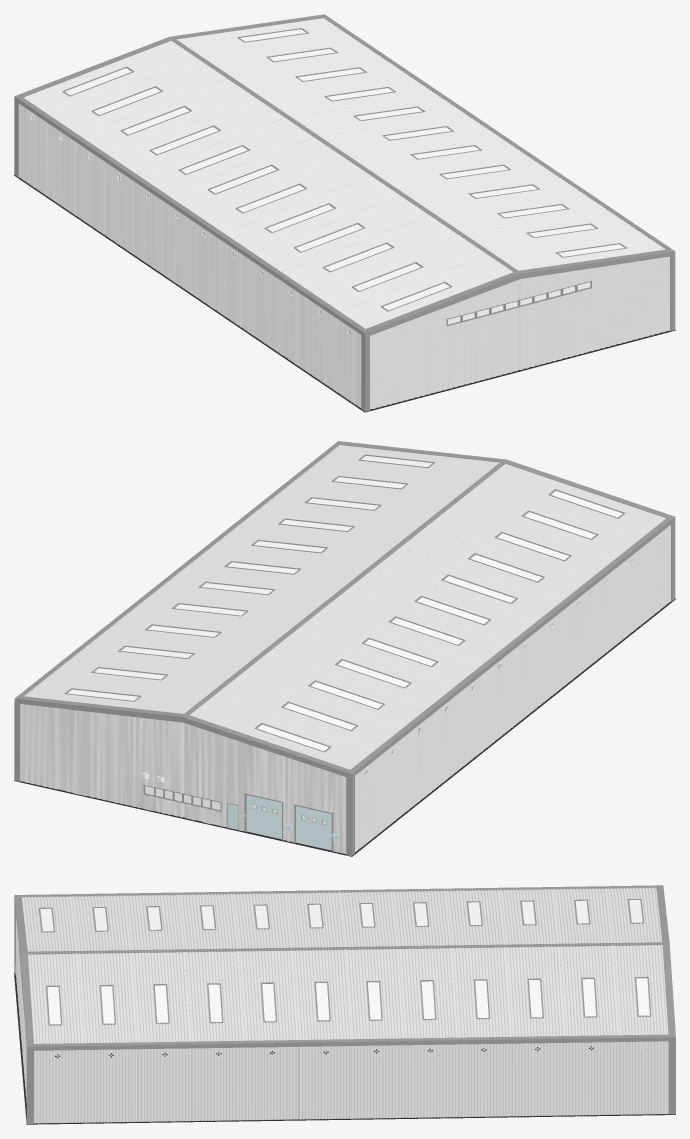
File: room3.glb
The picture shows the model from 3 angles, top to bottom: view 1: azimuth 30°, elevation 25°; view 2: azimuth 150°, elevation 25°; view 3: azimuth 270°, elevation 25°; orthographic projection. The views are drawn at different scales.
Parts seen in each view (by area): view 1: 02. dinding depan; view 2: 02. dinding depan; view 3: 02. dinding depan.
Part boxes in pixels (x1,y1,x2,y2): 02. dinding depan: [14, 14, 675, 412]; 02. dinding depan: [14, 441, 675, 856]; 02. dinding depan: [14, 885, 675, 1124].
Bounding box in the file's own units: 18.41 × 5.09 × 31.83.
3 materials, 3 textured.
